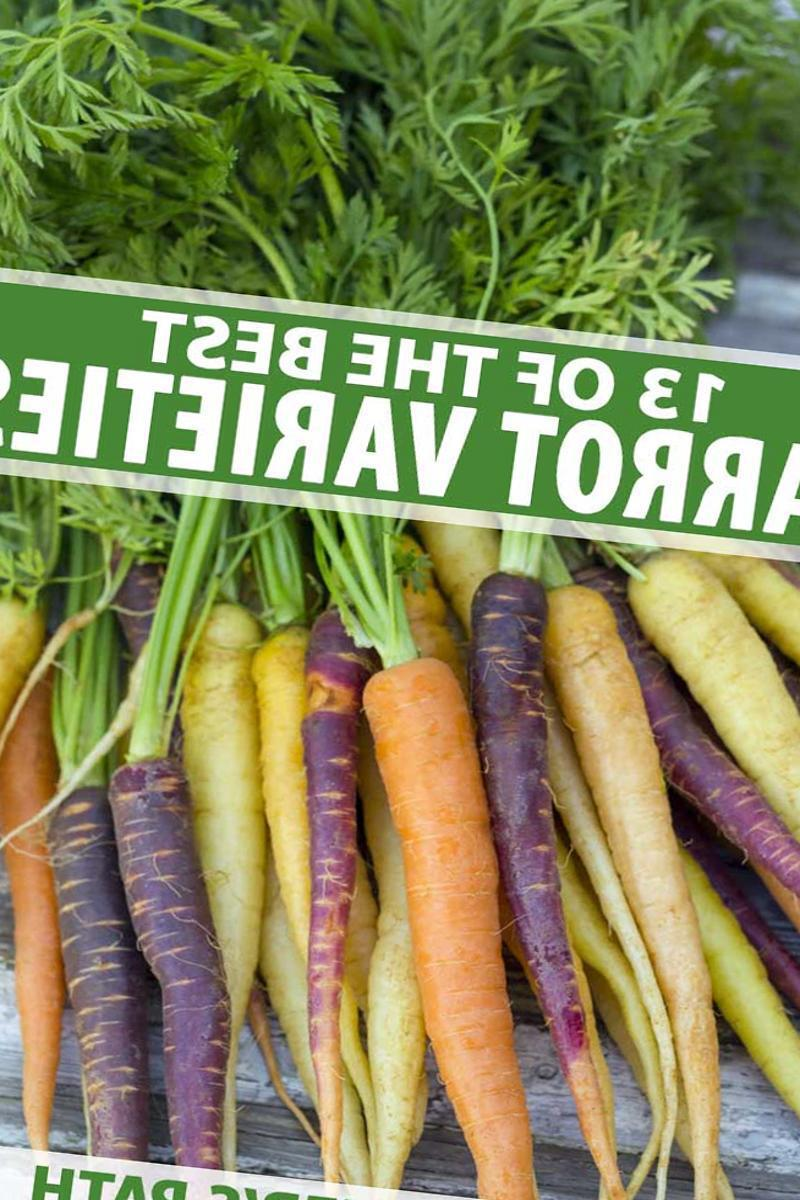carrot: (551, 544, 800, 1200), (359, 660, 504, 1200)
